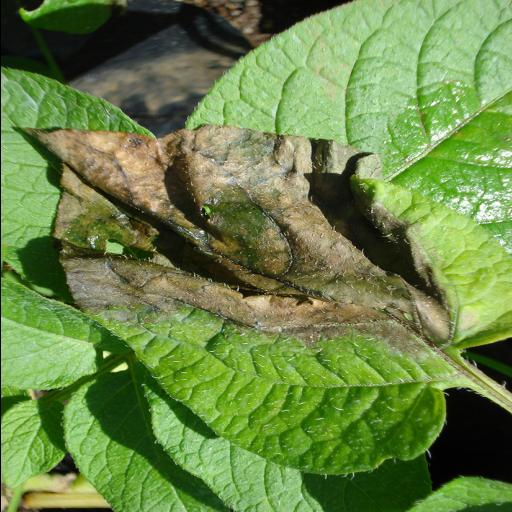Late Blight: (22, 122, 512, 478)
